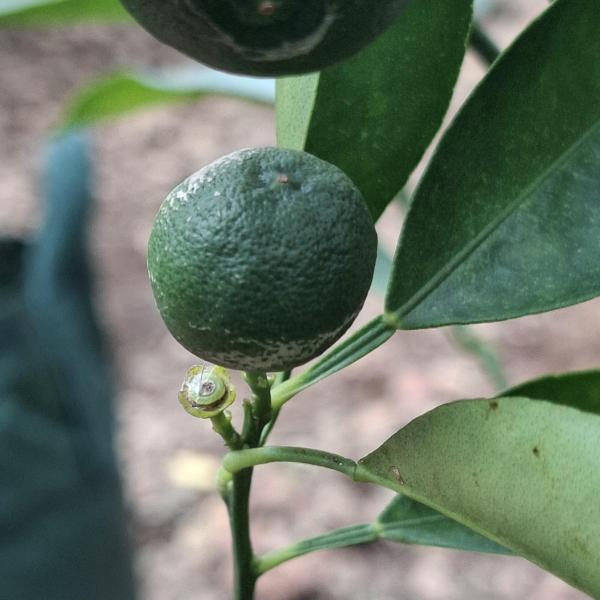Scab: (138, 149, 386, 379), (113, 0, 409, 86)
